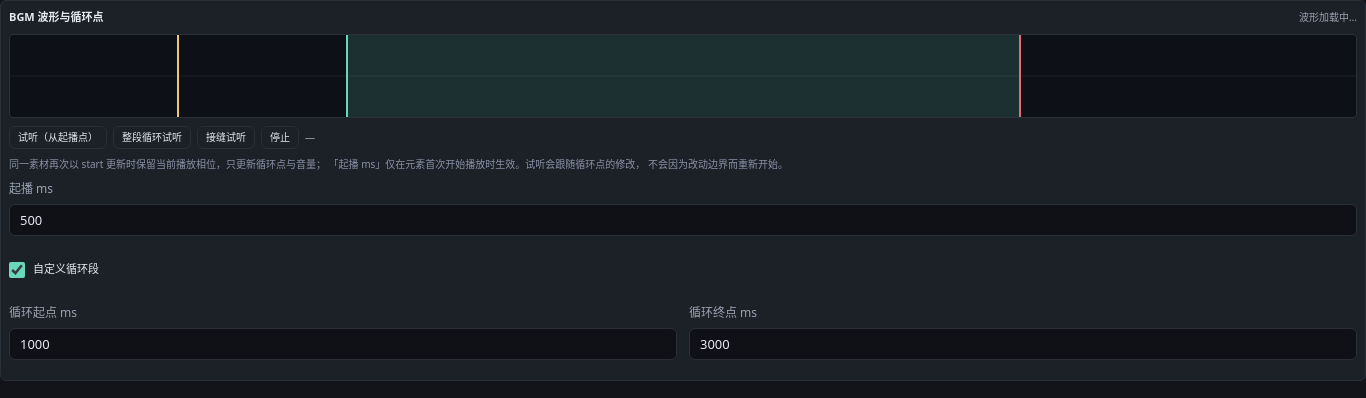
AudioLoopEditor › treats a pending play() interrupted by pause as a cancellation
This screenshot has width=1366, height=398.
Click the button "试听（从起播点）" at (58, 137), box [9,126,107,148]
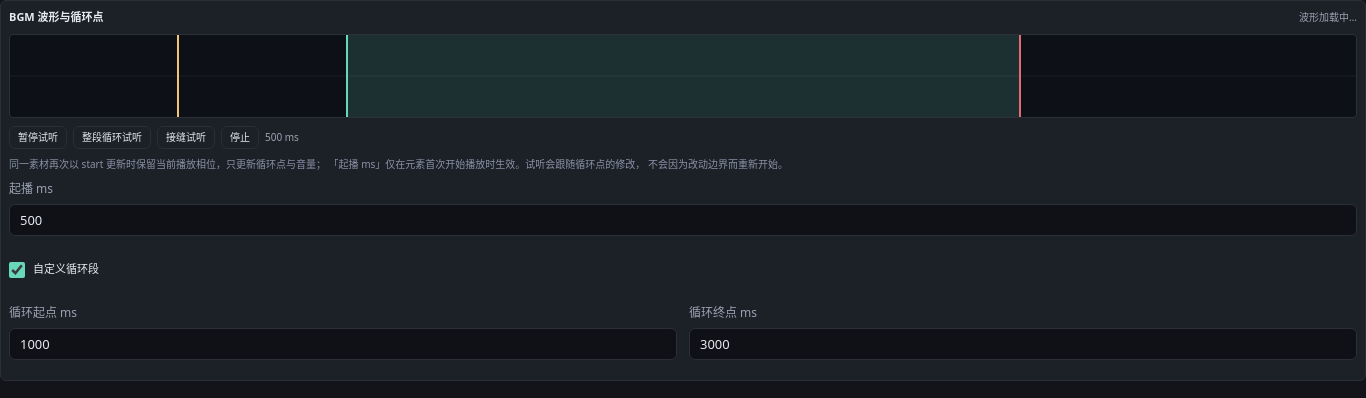
Click the button "暂停试听" at (38, 137), box [9,126,67,148]
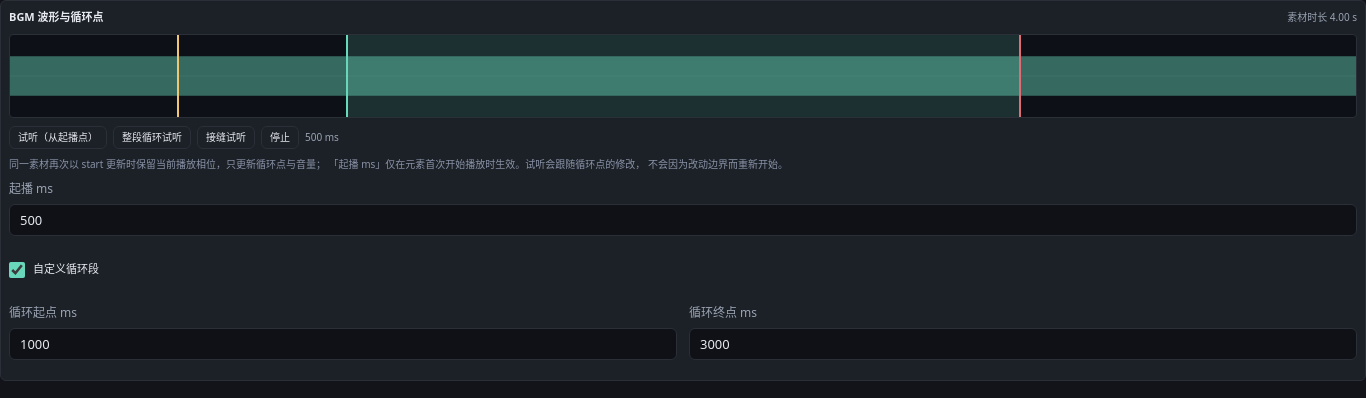
expect the button "试听（从起播点）" is shown: met, box [9,126,107,148]
